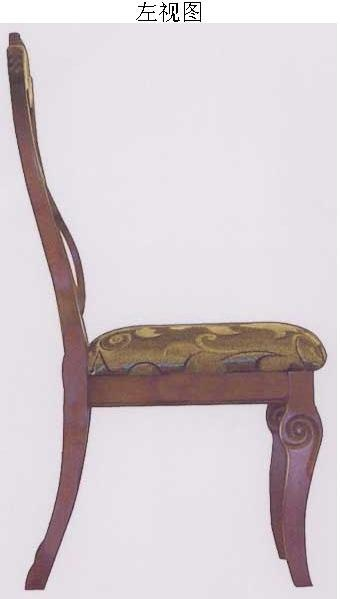obstacle: (7, 33, 325, 589)
